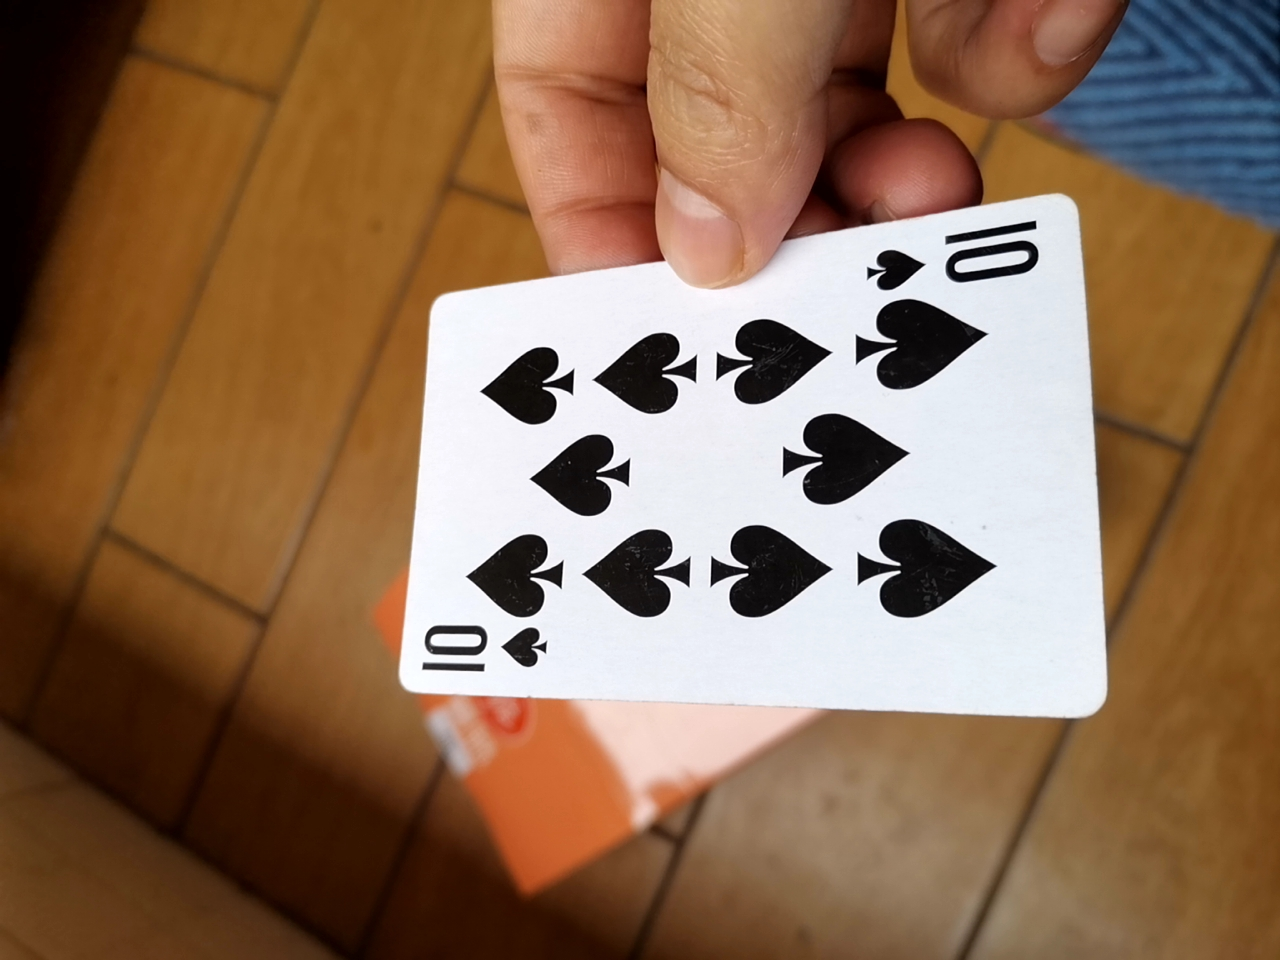ht 10: (378, 191, 1102, 734)
